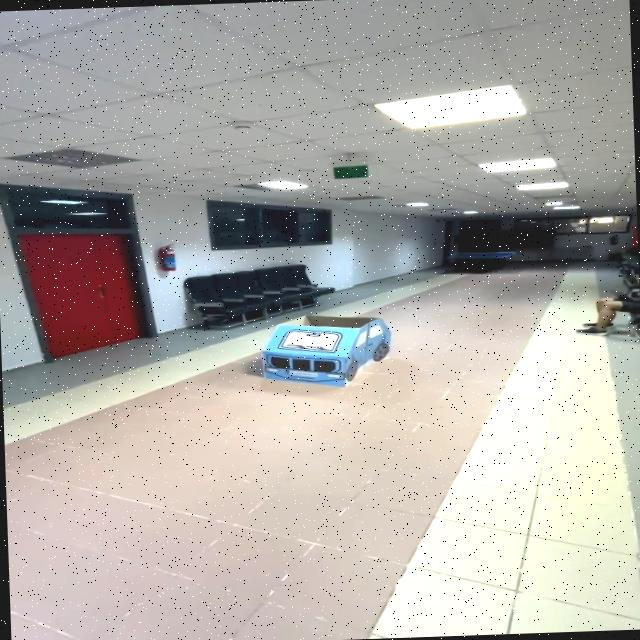blue_car: (234, 302, 414, 402)
